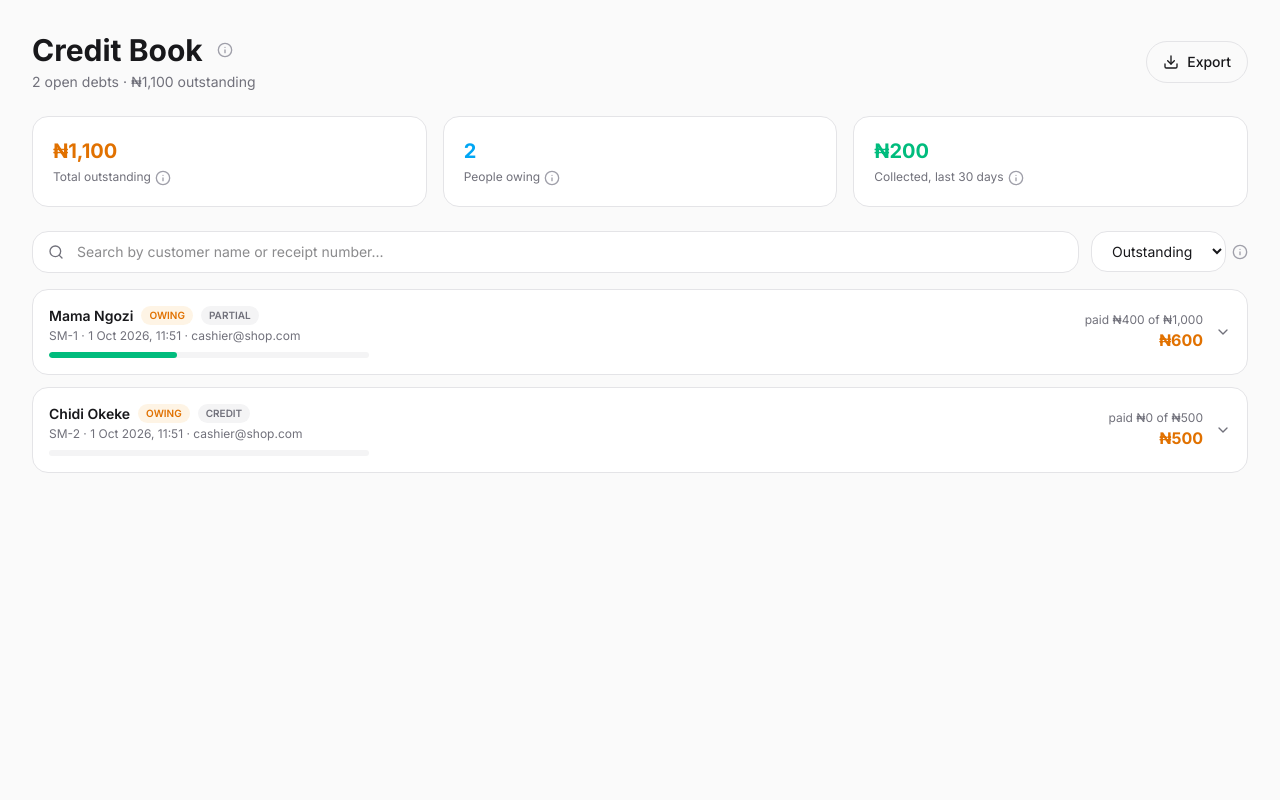
Test: Credit Book › shows a sale’s repayment history when expanded
Click the button "Mama Ngozi" at (91, 315), box [33,290,1247,374]
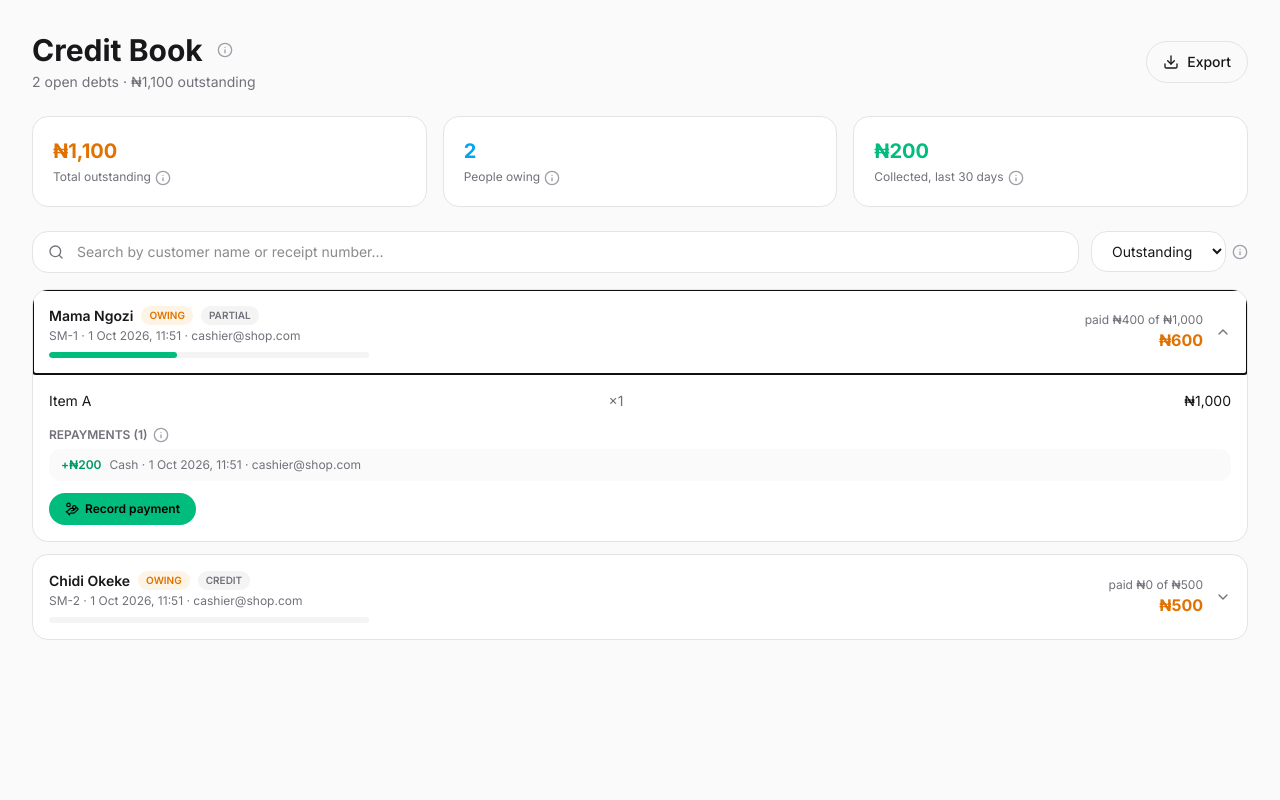
Expected: the heading "Repayments (1)" is shown, [49,427,147,443]
